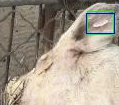text: (87, 11, 113, 34)
